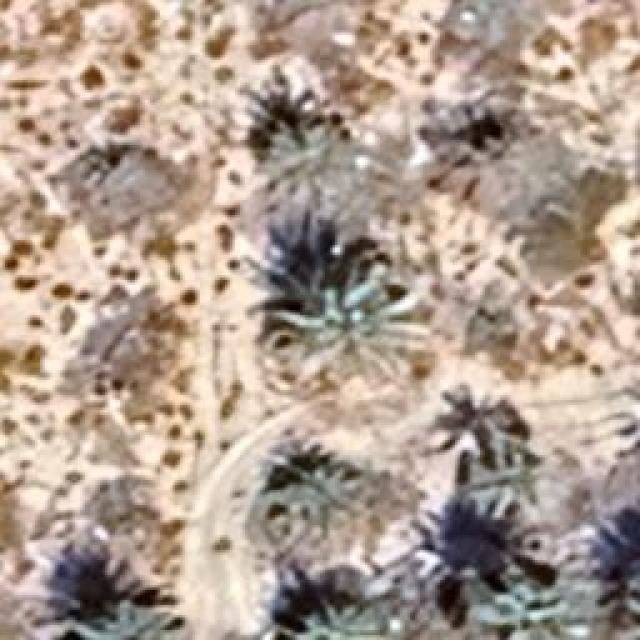PalmTree: (78, 32, 485, 187), (448, 530, 590, 638), (272, 260, 400, 368), (438, 386, 544, 484), (260, 448, 372, 540), (252, 120, 352, 208), (452, 118, 538, 202), (462, 457, 550, 521), (594, 506, 640, 624), (72, 600, 190, 638), (280, 604, 380, 638)
